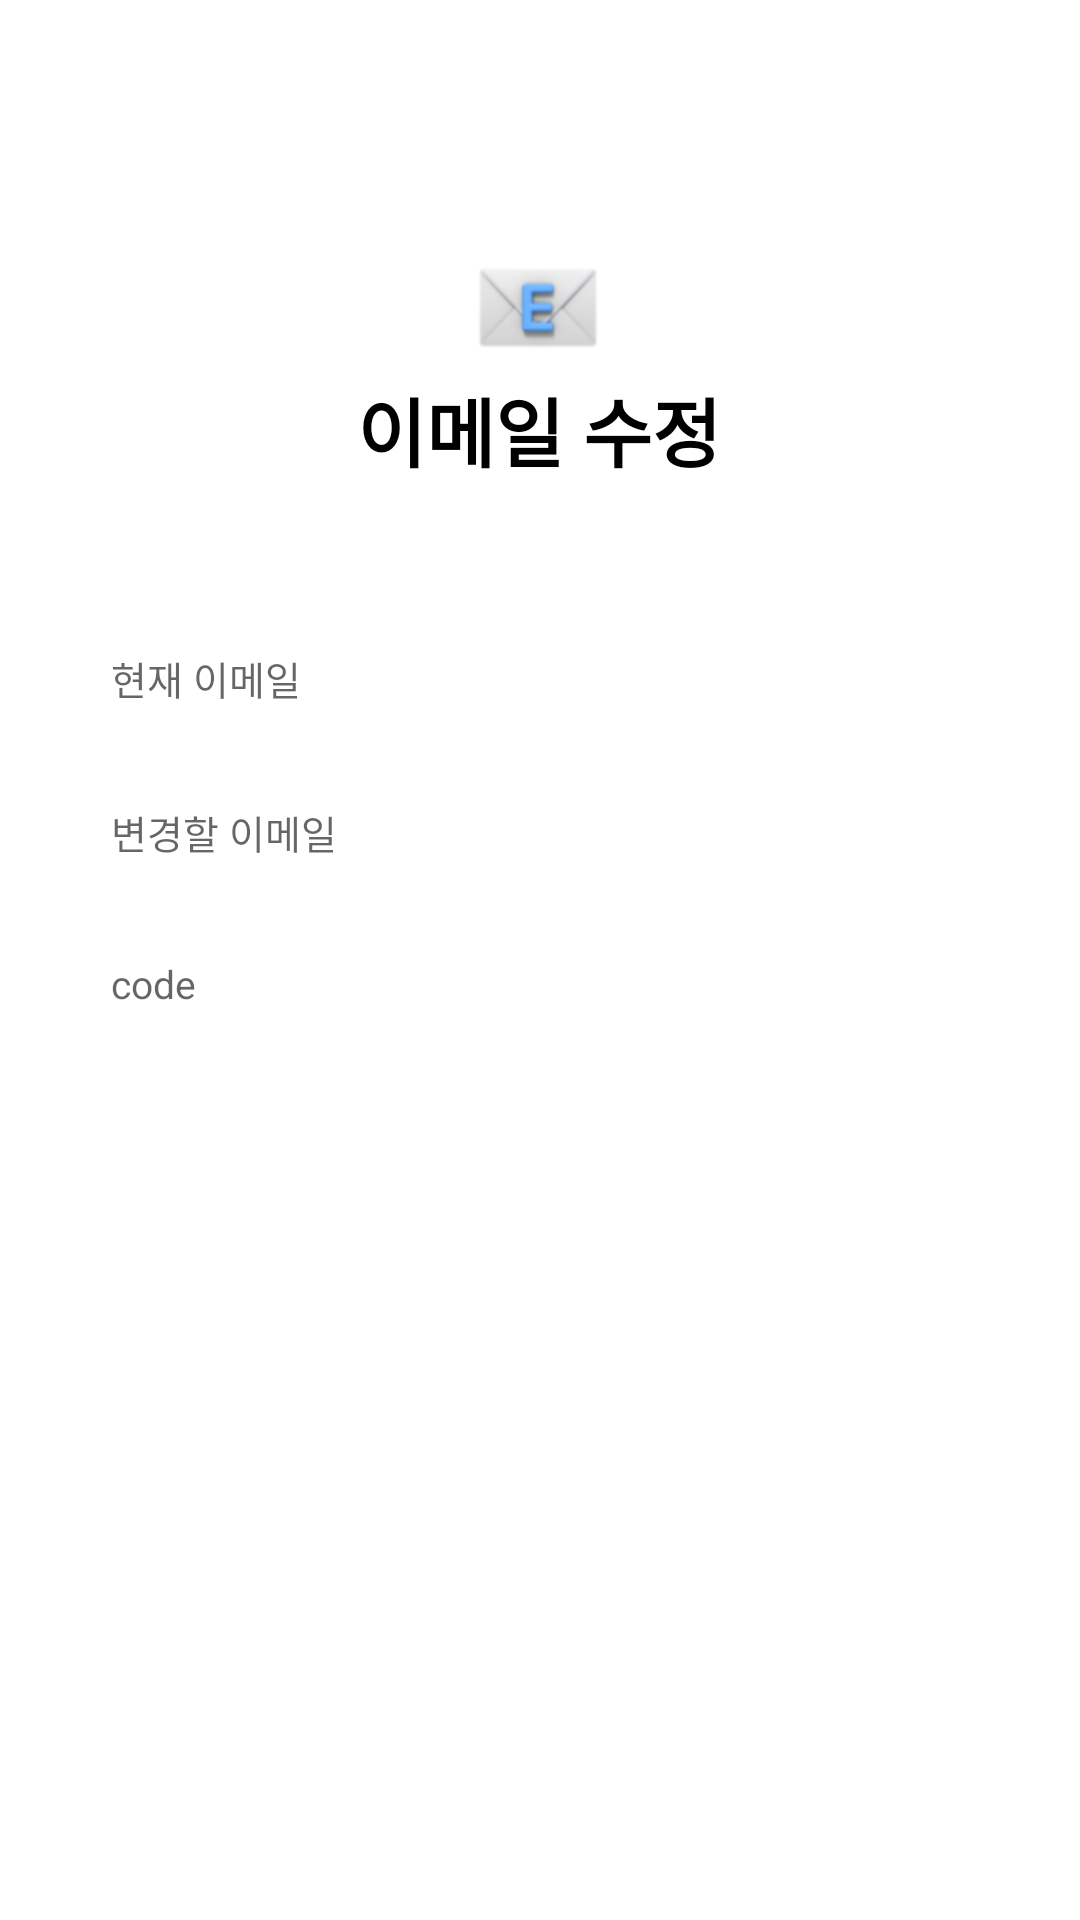

Icons on this 1080x1920 Android screen, each with its box as {"left": x1, "top": y1, "right": x2, "bottom": y2}:
email: {"left": 480, "top": 271, "right": 596, "bottom": 346}
